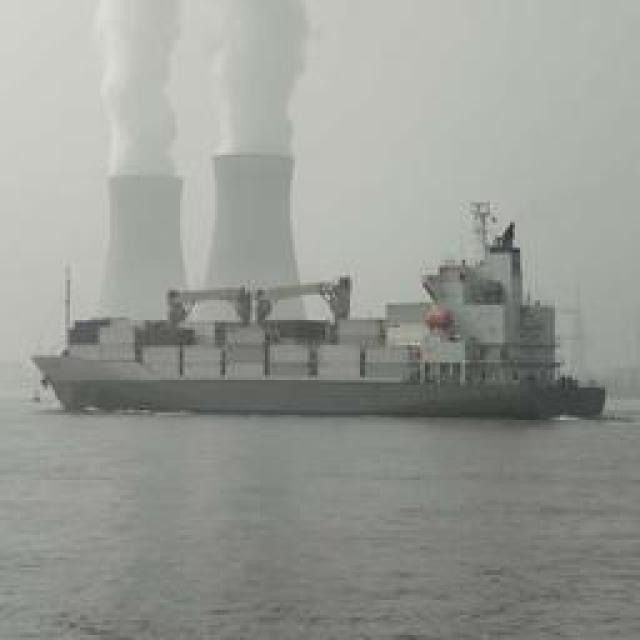Ship: (29, 290, 619, 425)
